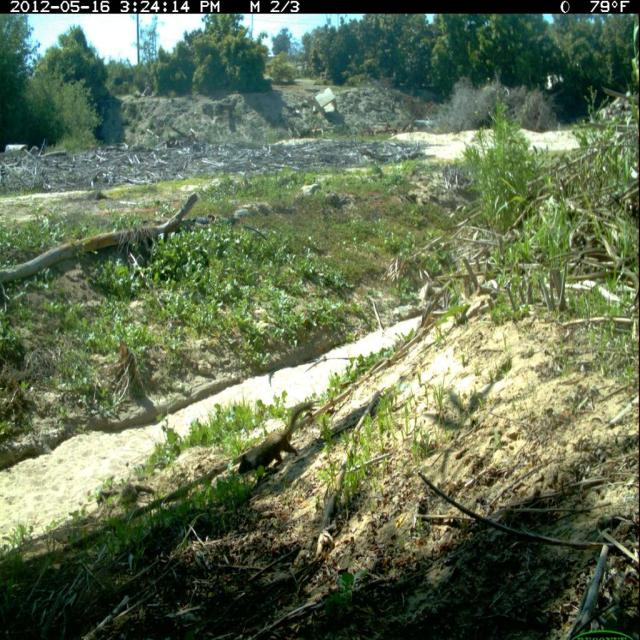squirrel: (236, 396, 315, 478)
